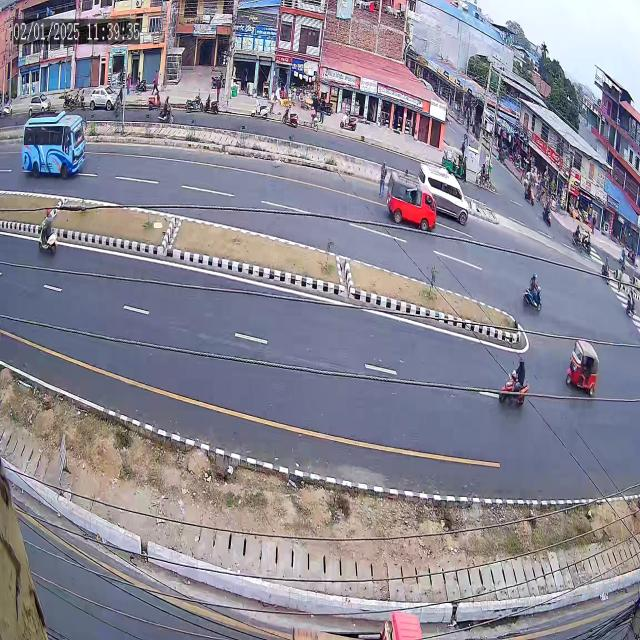auto: (556, 321, 605, 408)
bus: (15, 114, 91, 180)
motorcycle: (490, 348, 534, 424), (32, 202, 62, 266), (518, 263, 549, 324), (158, 89, 178, 133), (598, 243, 613, 290), (541, 193, 554, 234), (523, 174, 537, 208), (570, 219, 583, 252)
van: (378, 162, 438, 242)
